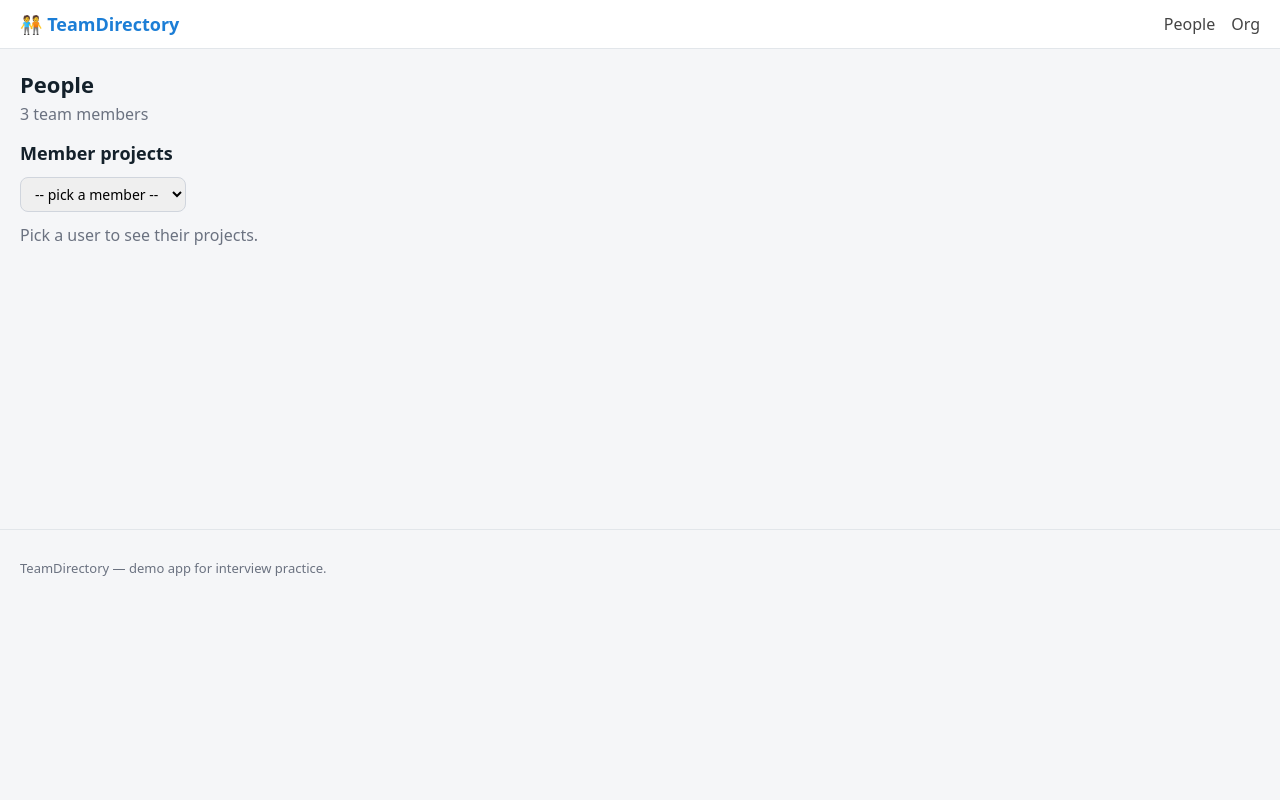
Test: m08 · TeamDirectory — app renders › navigates to the Org route via the navbar
Step 1. Click the link with test id "nav-org" → [1246, 24], box [1231,13,1260,35]
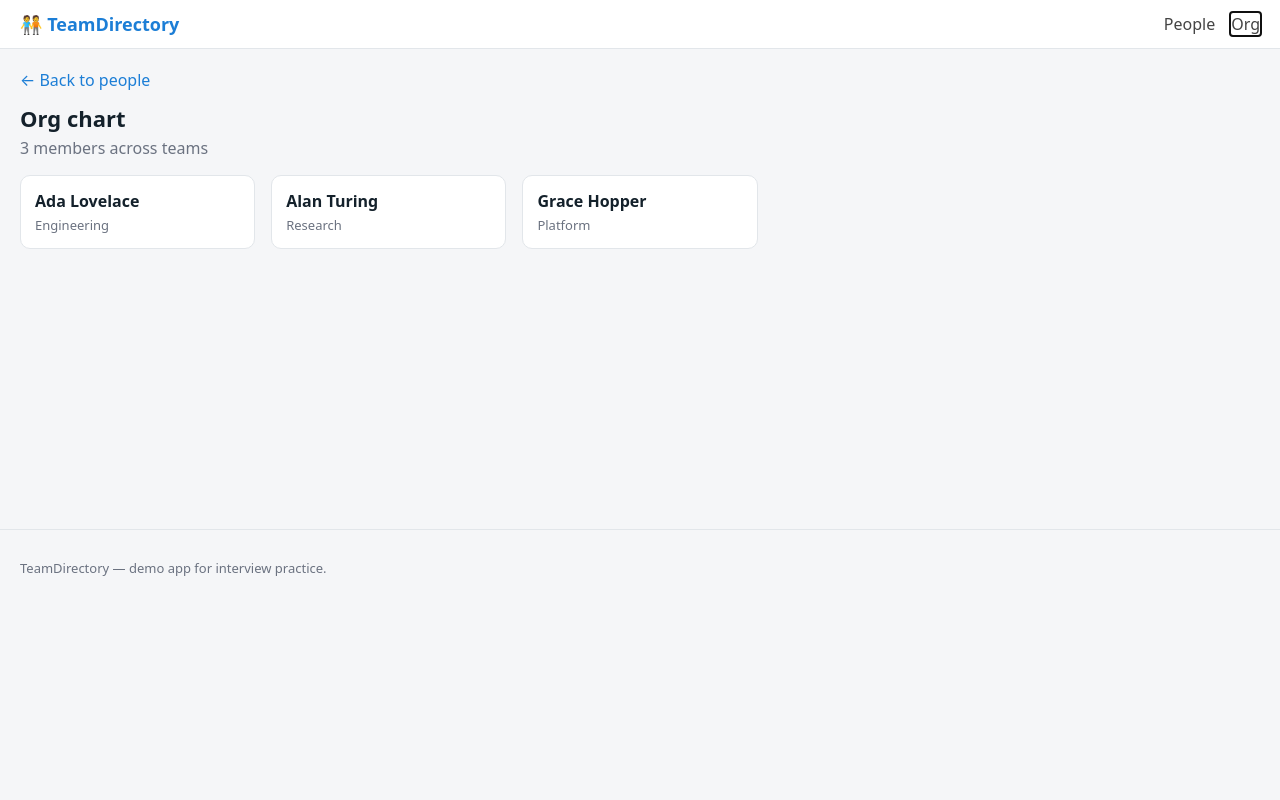
Result: the element with test id "org-page" is shown at [20,69,758,249]
